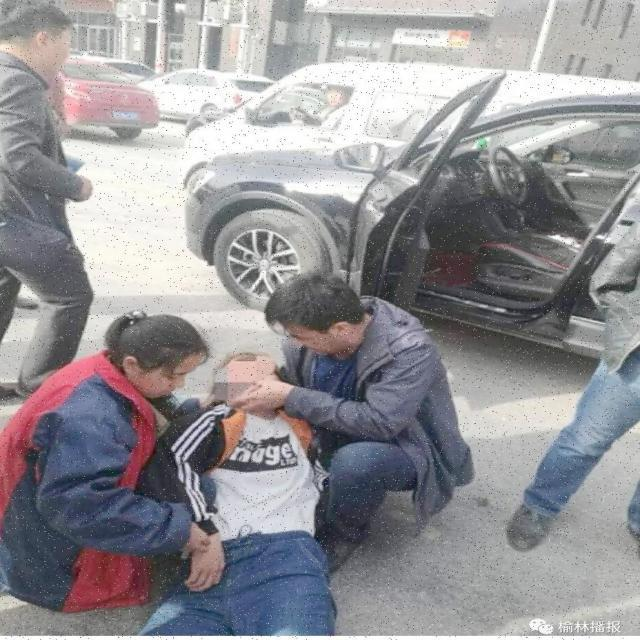fall: (182, 359, 349, 636)
